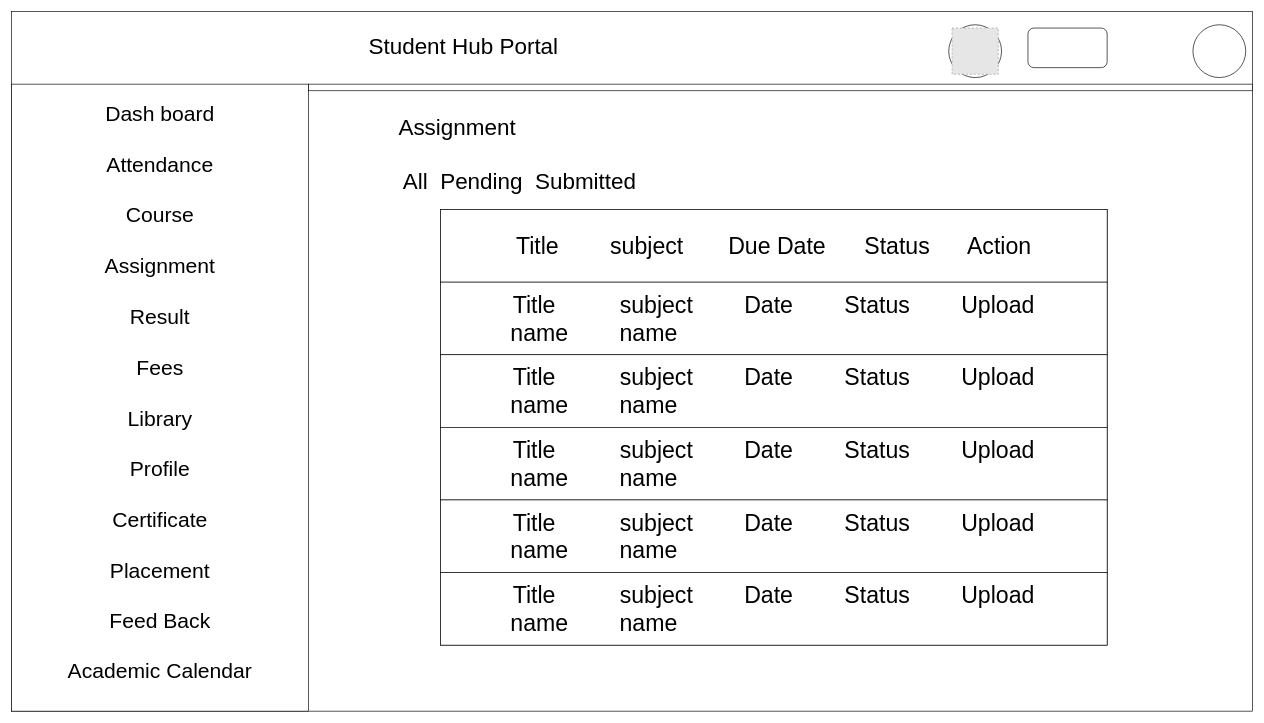
Image size: 1264x723. Some labels were removed from this diagram. Grey dashed boxes stand in for pictures. Here are the shapes that lost their labels. From the top down, the centre of each, then its label:
At pixel 1067 47: "Name".
At pixel 1219 51: "Setting".
